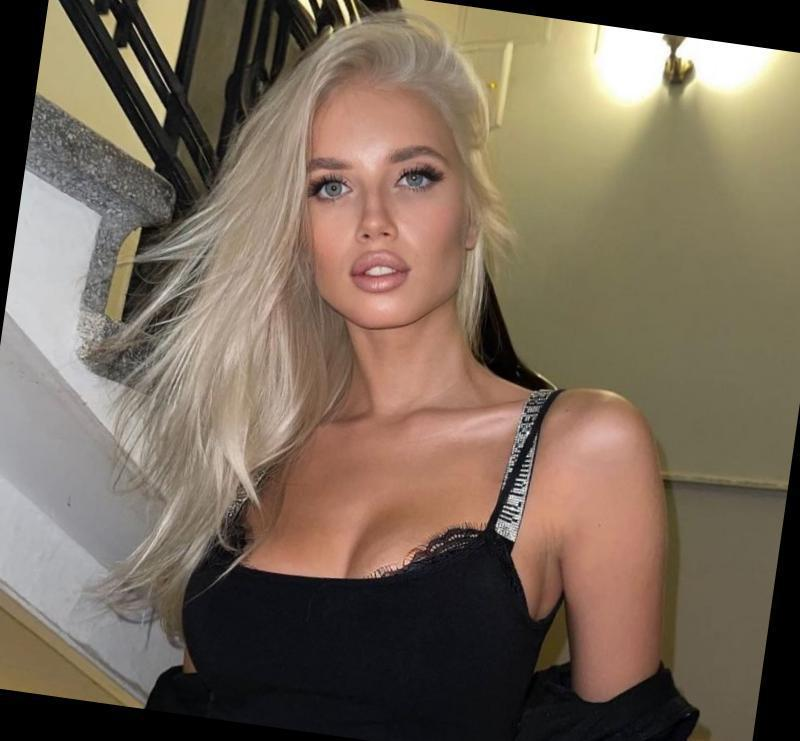Sober: (314, 89, 462, 317)
